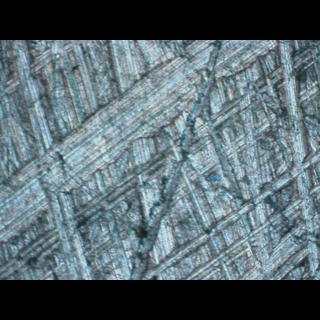d: (19, 59, 238, 264)
